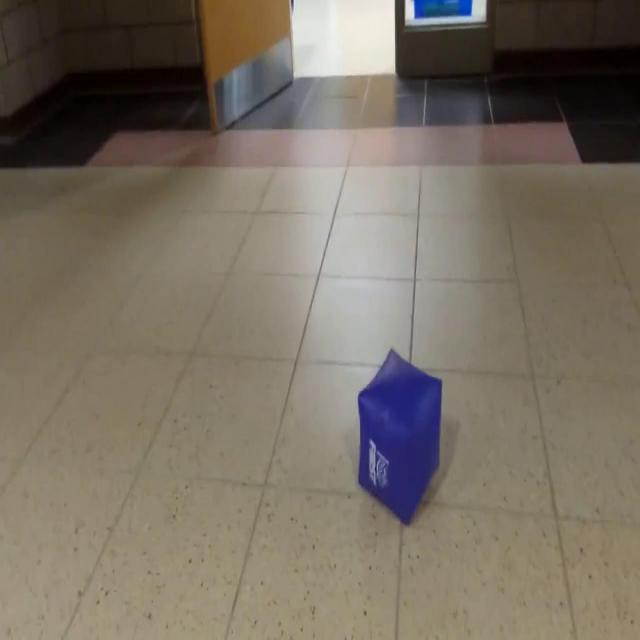frc_cube: (355, 343, 441, 522)
